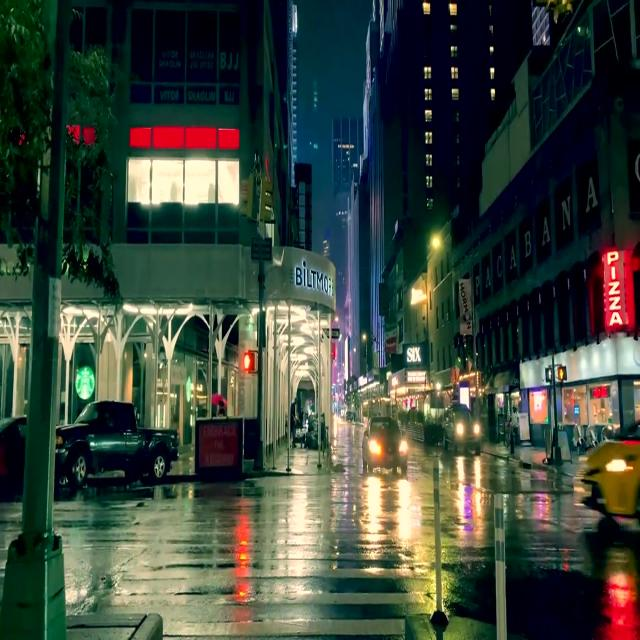Car: (55, 400, 176, 477), (359, 422, 404, 474), (441, 405, 480, 455)
